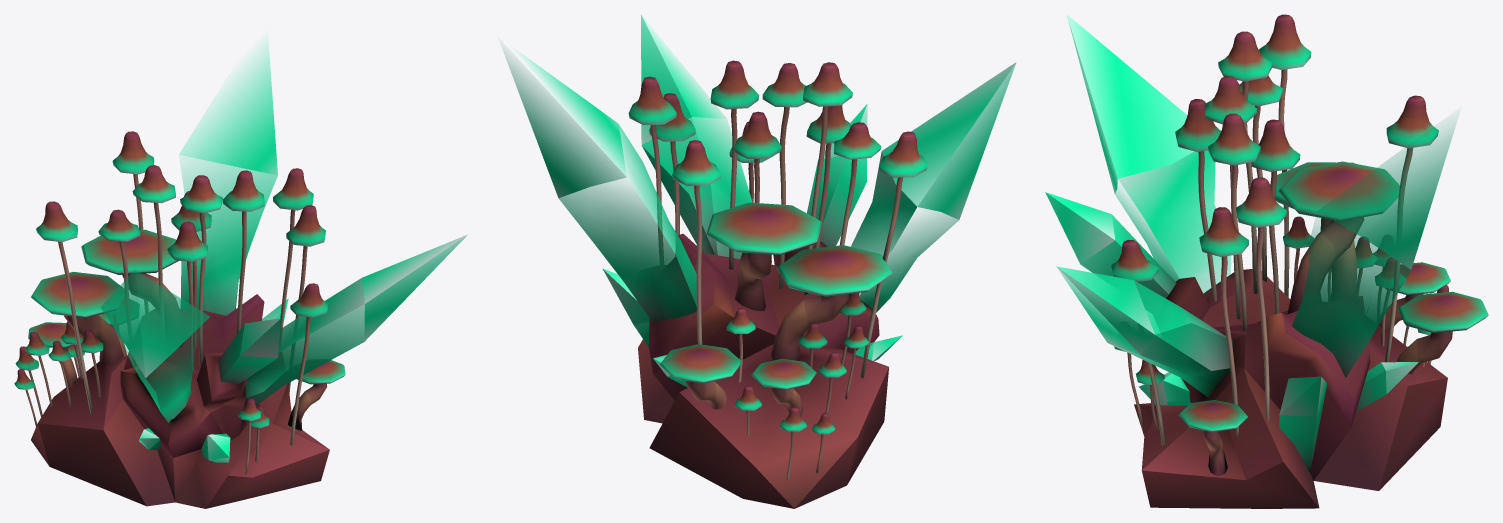
Rendered from crystal-mushrooms.glb.
The picture shows the model from 3 angles, left to right: view 1: azimuth 30°, elevation 25°; view 2: azimuth 150°, elevation 25°; view 3: azimuth 270°, elevation 25°; orthographic projection. The views are drawn at different scales.
Parts seen in each view (by area): view 1: Crystal_shroom_1_sep2, Crystal_shroom_1_sep67, Crystal_shroom_1_sep37, Crystal_shroom_1_cut69, Crystal_shroom_1, Crystal_shroom_1_sep42, Crystal_shroom_1_sep41, Crystal_shroom_1_sep40; view 2: Crystal_shroom_1_sep2, Crystal_shroom_1_cut69, Crystal_shroom_1_sep37, Crystal_shroom_1_sep42, Crystal_shroom_1_sep67, Crystal_shroom_1, Crystal_shroom_1_sep41, Crystal_shroom_1_sep36; view 3: Crystal_shroom_1_sep2, Crystal_shroom_1_sep67, Crystal_shroom_1_sep37, Crystal_shroom_1_sep42, Crystal_shroom_1, Crystal_shroom_1_cut69, Crystal_shroom_1_sep41, Crystal_shroom_1_sep36, Crystal_shroom_1_sep38, Crystal_shroom_1_sep40.
Part boxes in pixels (x1=…): Crystal_shroom_1_sep2: x1=14, y1=131, x2=345, y2=476; Crystal_shroom_1_sep67: x1=120, y1=294, x2=329, y2=508; Crystal_shroom_1_sep37: x1=179, y1=45, x2=277, y2=315; Crystal_shroom_1_cut69: x1=31, y1=356, x2=174, y2=506; Crystal_shroom_1: x1=245, y1=234, x2=467, y2=405; Crystal_shroom_1_sep42: x1=100, y1=270, x2=209, y2=422; Crystal_shroom_1_sep41: x1=218, y1=318, x2=280, y2=383; Crystal_shroom_1_sep40: x1=201, y1=433, x2=230, y2=462; Crystal_shroom_1_sep2: x1=628, y1=60, x2=927, y2=480; Crystal_shroom_1_cut69: x1=649, y1=344, x2=888, y2=508; Crystal_shroom_1_sep37: x1=503, y1=50, x2=696, y2=323; Crystal_shroom_1_sep42: x1=851, y1=62, x2=1016, y2=312; Crystal_shroom_1_sep67: x1=638, y1=233, x2=879, y2=423; Crystal_shroom_1: x1=641, y1=14, x2=752, y2=258; Crystal_shroom_1_sep41: x1=807, y1=104, x2=867, y2=246; Crystal_shroom_1_sep36: x1=602, y1=268, x2=649, y2=347; Crystal_shroom_1_sep2: x1=1111, y1=14, x2=1488, y2=475; Crystal_shroom_1_sep67: x1=1134, y1=269, x2=1370, y2=508; Crystal_shroom_1_sep37: x1=1292, y1=120, x2=1456, y2=377; Crystal_shroom_1_sep42: x1=1066, y1=14, x2=1230, y2=294; Crystal_shroom_1: x1=1056, y1=266, x2=1233, y2=397; Crystal_shroom_1_cut69: x1=1314, y1=325, x2=1447, y2=490; Crystal_shroom_1_sep41: x1=1045, y1=192, x2=1176, y2=313; Crystal_shroom_1_sep36: x1=1279, y1=376, x2=1327, y2=471; Crystal_shroom_1_sep38: x1=1356, y1=362, x2=1418, y2=411; Crystal_shroom_1_sep40: x1=1139, y1=372, x2=1190, y2=405.
Bounding box in the file's own units: 4.69 × 4.76 × 4.3.
1 material, 1 textured.
